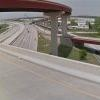Bridge: (5, 0, 94, 64)
